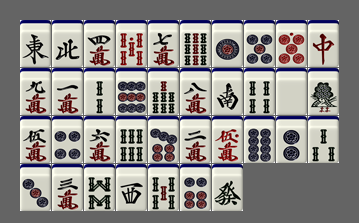0m: (212, 116, 243, 163)
0p: (276, 20, 307, 67)
0s: (116, 20, 147, 67)
1m: (52, 68, 83, 115)
1p: (212, 20, 243, 67)
1s: (308, 68, 339, 115)
1z: (20, 20, 51, 67)
2m: (180, 116, 211, 163)
2p: (276, 116, 307, 163)
2s: (84, 68, 115, 115)
2z: (212, 68, 243, 115)
3m: (52, 164, 83, 211)
3p: (20, 164, 51, 211)
3s: (308, 116, 339, 163)
3z: (116, 164, 147, 211)
4m: (84, 20, 115, 67)
4p: (52, 116, 83, 163)
4s: (244, 68, 275, 115)
4z: (52, 20, 83, 67)
5m: (20, 116, 51, 163)
5p: (244, 20, 275, 67)
5s: (148, 164, 179, 211)
5z: (276, 68, 307, 115)
6m: (84, 116, 115, 163)
6p: (180, 164, 211, 211)
6s: (116, 116, 147, 163)
6z: (212, 164, 243, 211)
7m: (148, 20, 179, 67)
7p: (148, 116, 179, 163)
7s: (148, 68, 179, 115)
7z: (308, 20, 339, 67)
8m: (180, 68, 211, 115)
8p: (244, 116, 275, 163)
8s: (84, 164, 115, 211)
9m: (20, 68, 51, 115)
9p: (116, 68, 147, 115)
9s: (180, 20, 211, 67)
